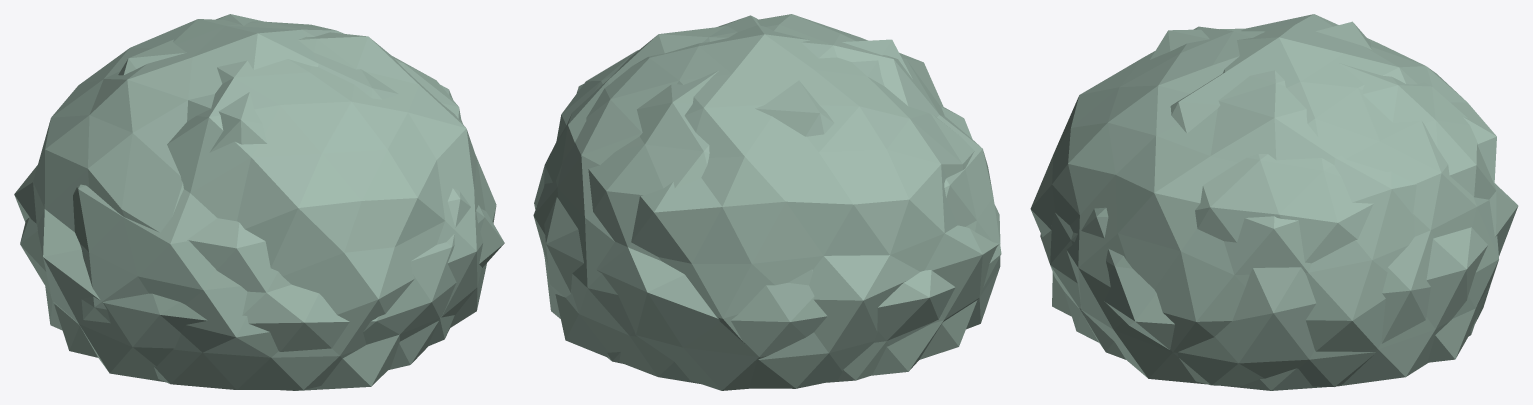
File: Bush_2.fbx
The picture shows the model from 3 angles, left to right: view 1: azimuth 30°, elevation 25°; view 2: azimuth 150°, elevation 25°; view 3: azimuth 270°, elevation 25°; orthographic projection.
Parts seen in each view (by area): view 1: Icosphere, Icosphere.001; view 2: Icosphere.001, Icosphere; view 3: Icosphere, Icosphere.001.
Part boxes in pixels (x1,y1,x2,y2): Icosphere: (20, 14, 496, 389); Icosphere.001: (14, 19, 504, 390); Icosphere.001: (533, 15, 1000, 388); Icosphere: (534, 14, 1001, 390); Icosphere: (1030, 21, 1518, 390); Icosphere.001: (1040, 14, 1498, 386).
Size of the model in its own units: 344 by 218 by 344.
